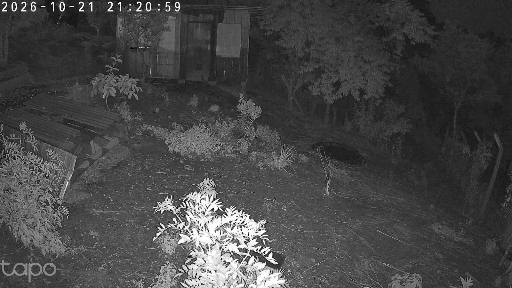pato: (186, 93, 198, 109), (207, 102, 219, 113)
